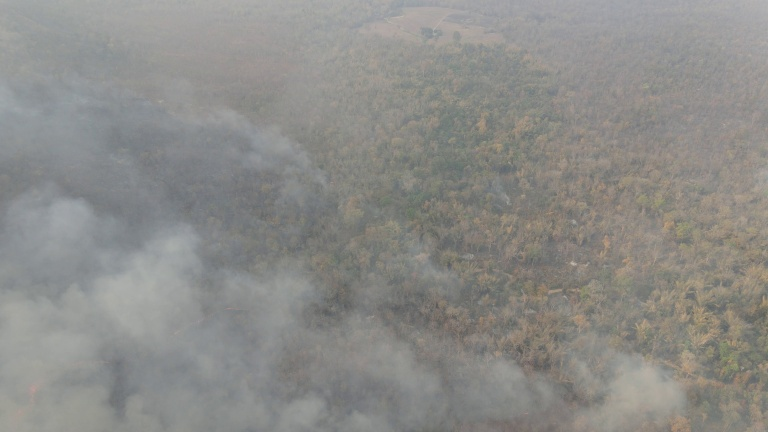fire: (6, 379, 40, 430), (160, 319, 206, 338), (70, 355, 116, 368), (217, 305, 253, 315)
smoke: (1, 186, 318, 429), (203, 112, 314, 185), (587, 345, 673, 423)
